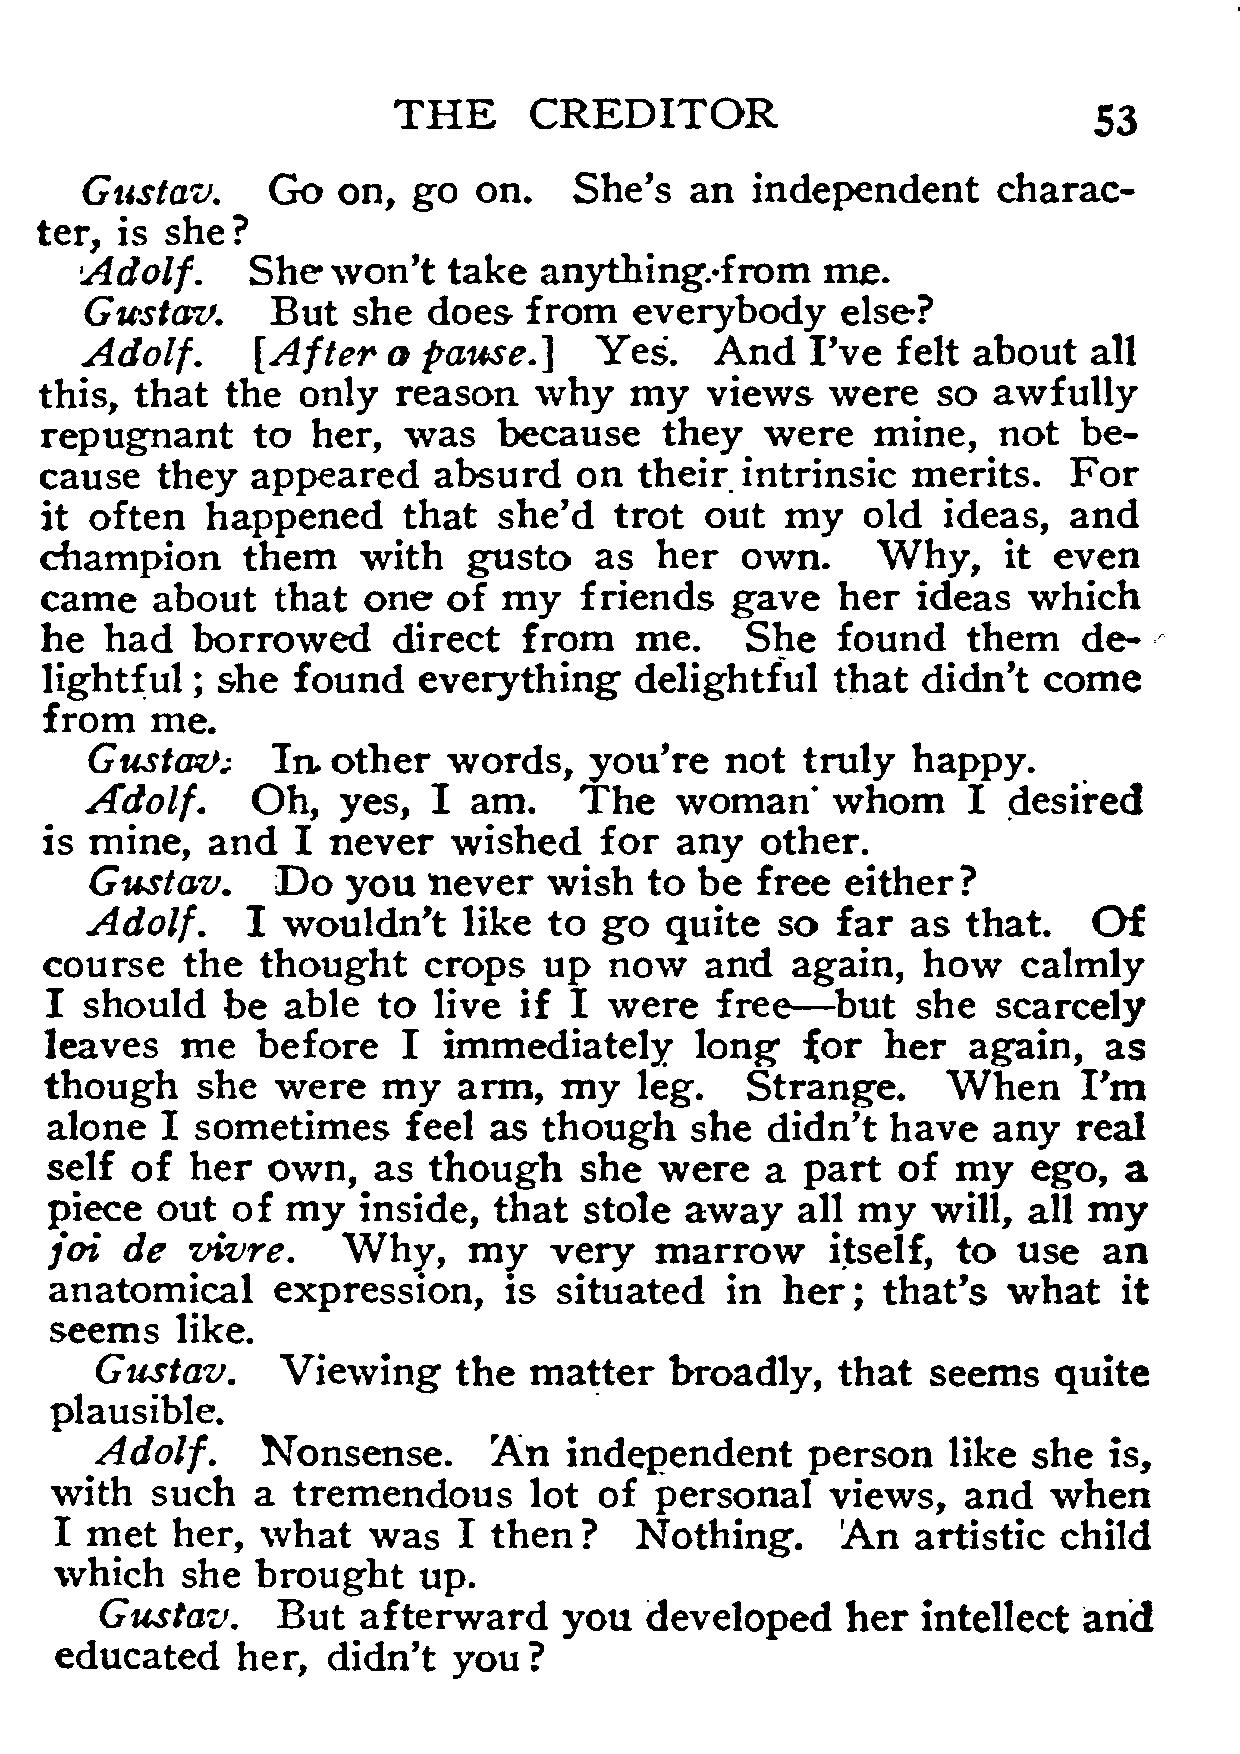content: (30, 162, 1162, 1679)
content_chapter: (389, 93, 781, 132)
content_pagenumber: (1084, 98, 1143, 138)
